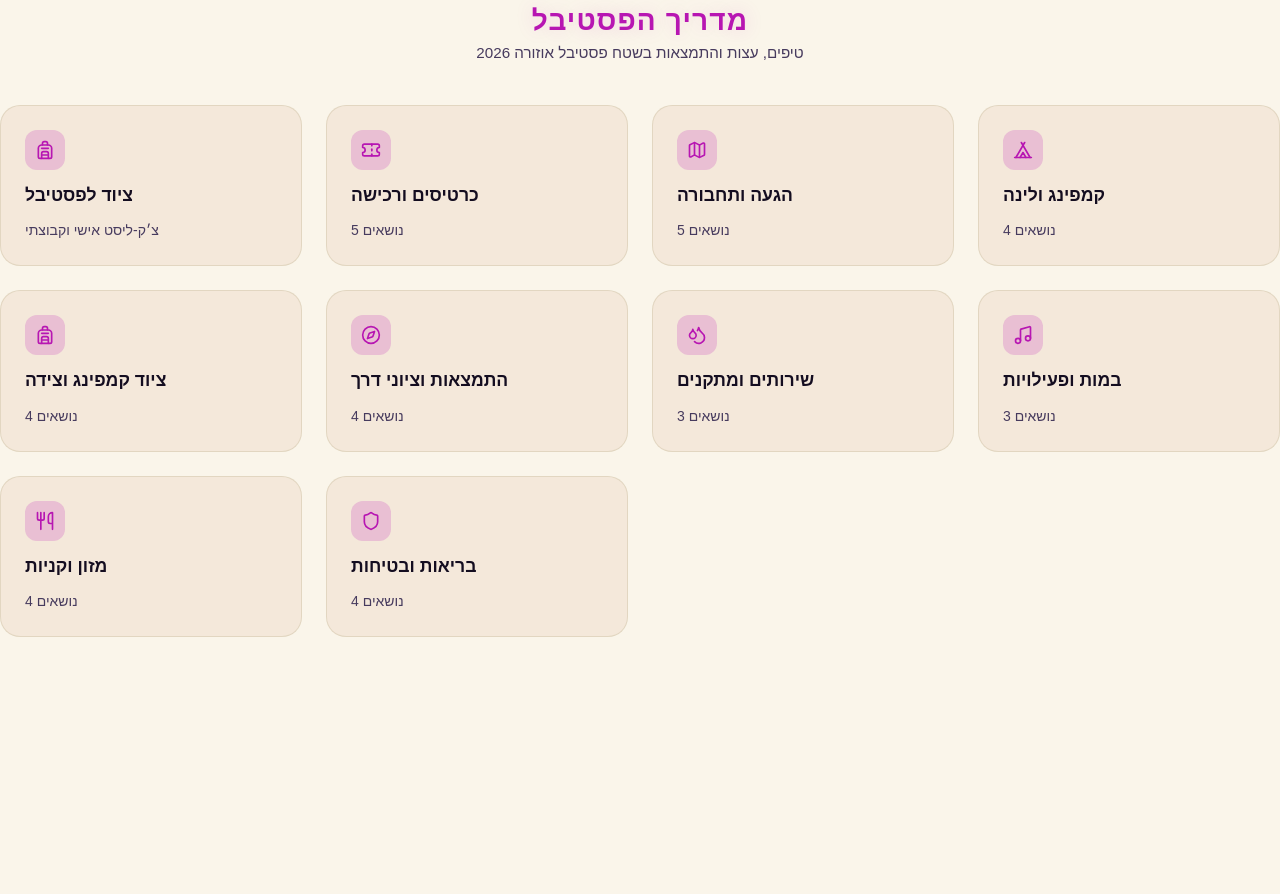
Test case: FestivalGuide — equipment checklist entry › opens the equipment checklist when the card is clicked
Click the heading "ציוד לפסטיבל": (79,195) left=25, top=185, right=133, bottom=205
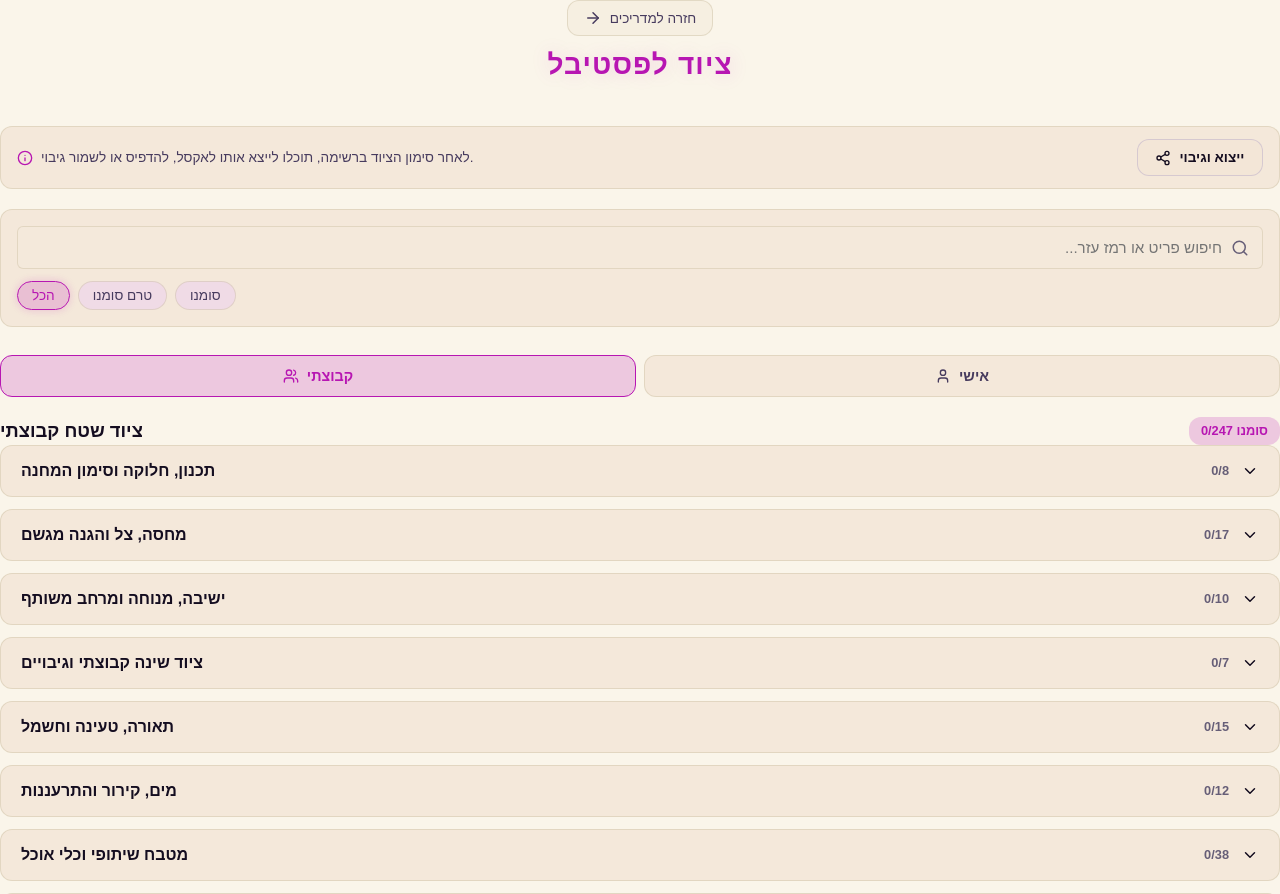
Expected: the heading "ציוד שטח קבוצתי" is shown, left=0, top=417, right=143, bottom=445
